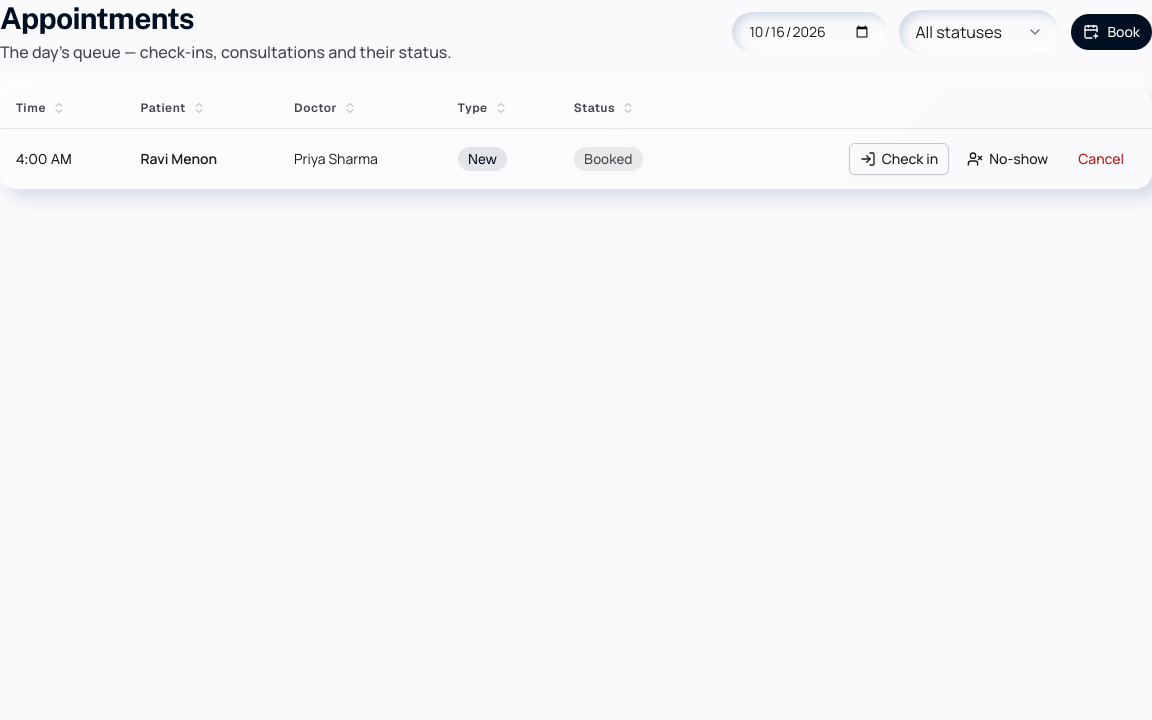
Test: confirming a no-show › asks first, and sends nothing if the user backs out
This screenshot has width=1152, height=720.
Click the button "No-show".
click(1008, 159)  # box [957,143,1058,175]
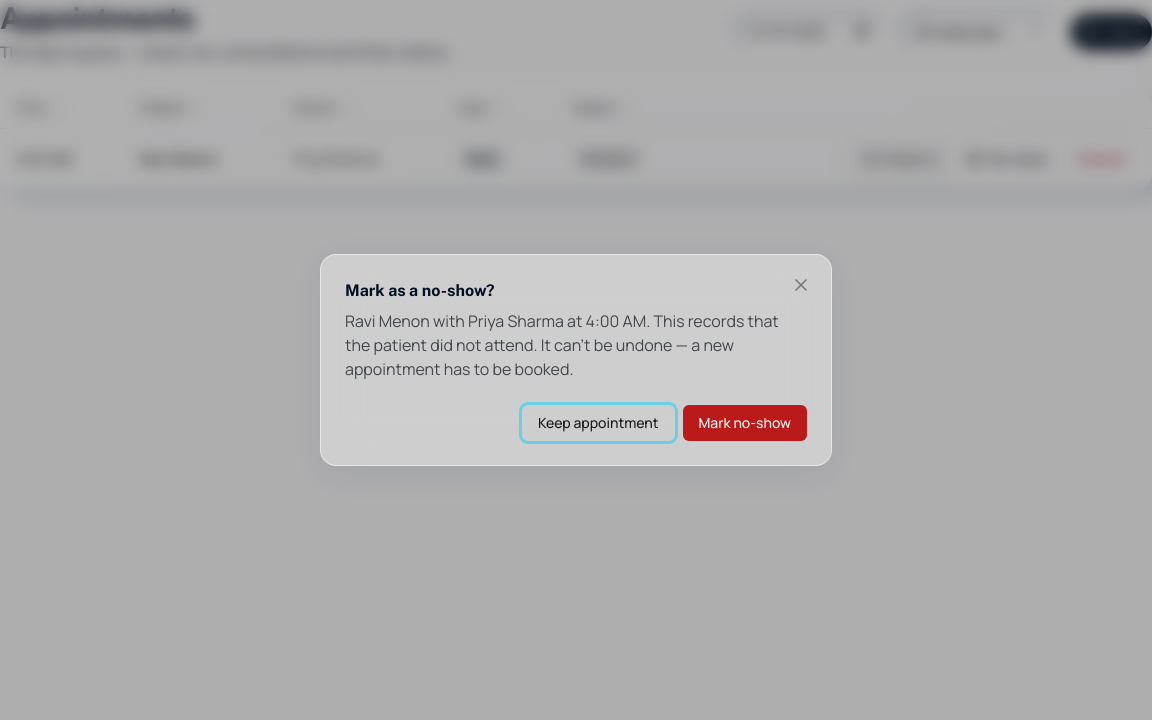
Check: the heading "Mark as a no-show?" is shown, box [345,281,494,300]
Check: the text "Ravi Menon with Priya Sharma" is shown, box [345,309,807,381]
Check: the text "can't be undone" is shown, box [345,310,779,380]
Click the button "Keep appointment".
click(598, 423)  # box [522,405,674,441]
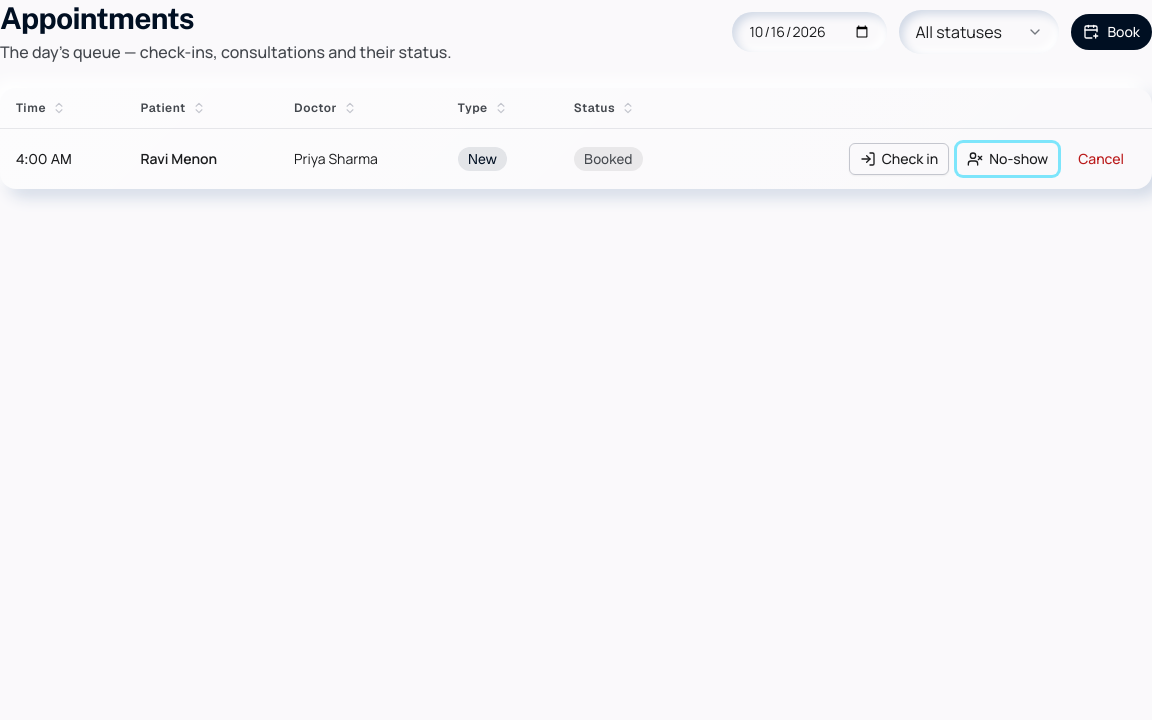
Check: the dialog is gone
